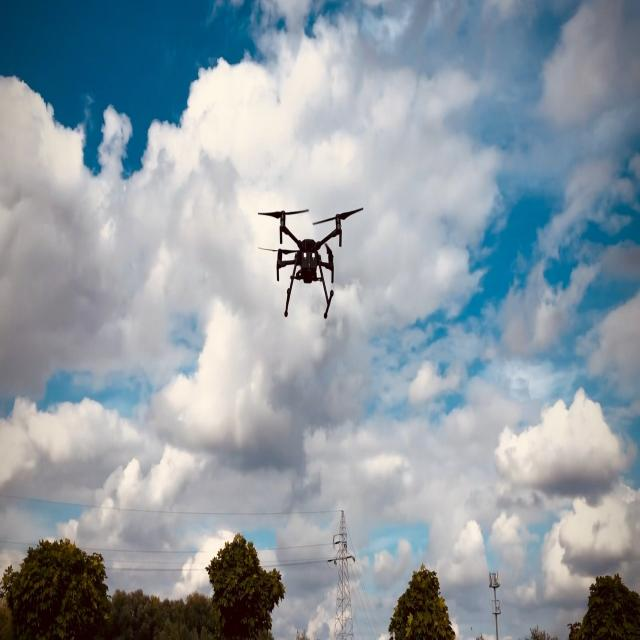drone: (257, 205, 363, 319)
